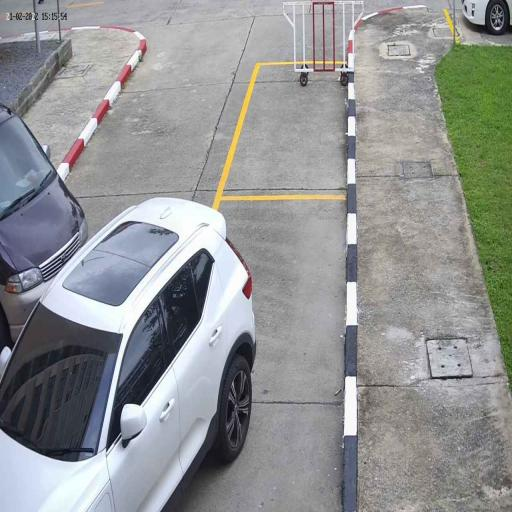car: (0, 195, 259, 512), (0, 94, 87, 338)
